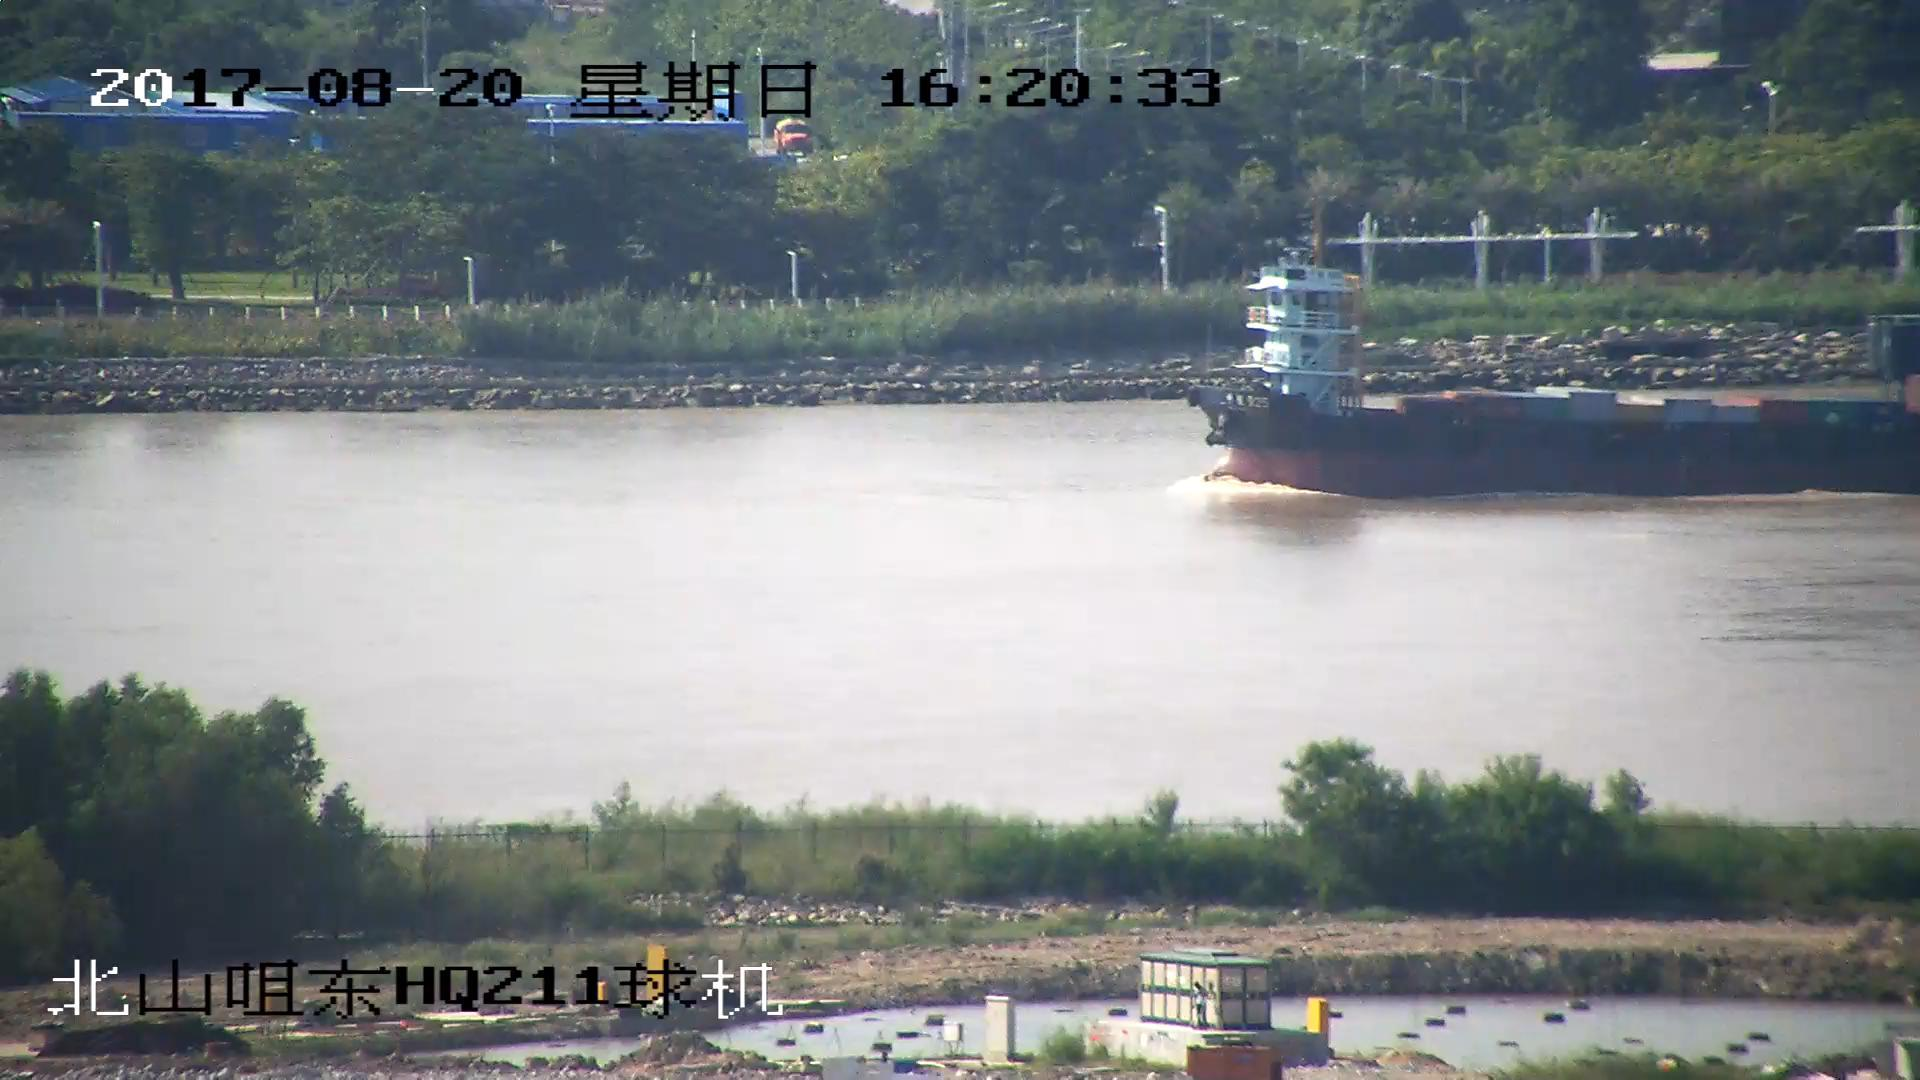Ship: (1187, 245, 1920, 500)
